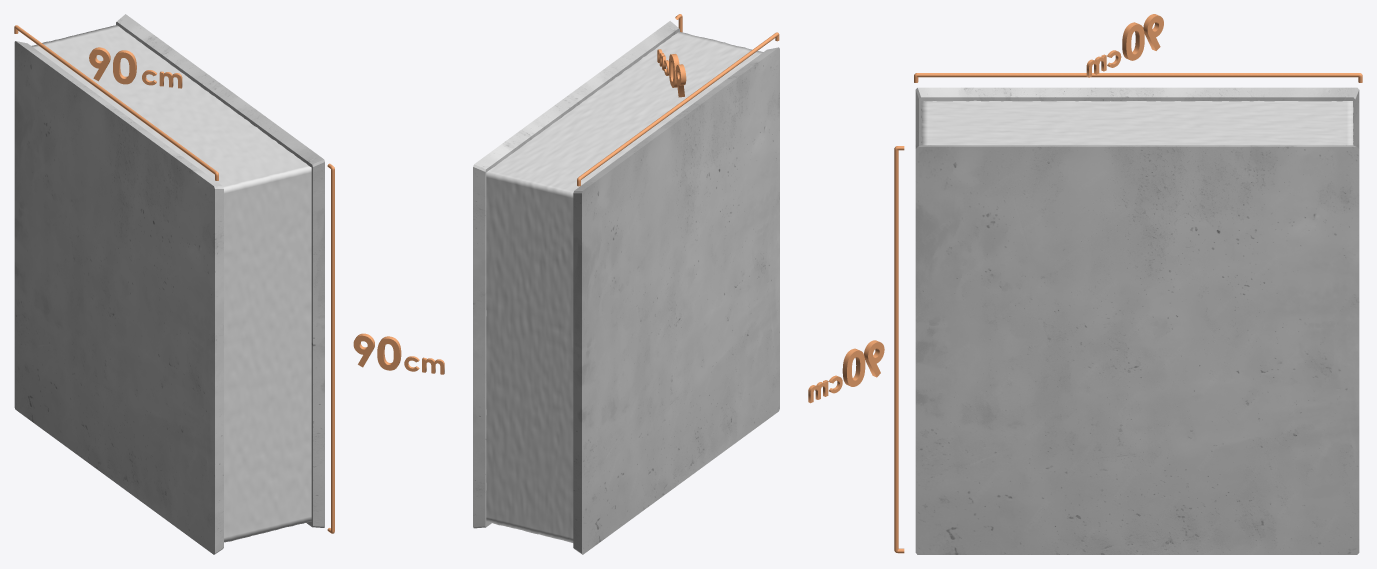
File: metrics-3d.glb
3 renders of one model, left to right at view 1: azimuth 30°, elevation 25°; view 2: azimuth 150°, elevation 25°; view 3: azimuth 270°, elevation 25°, orthographic. The views are drawn at different scales.
Visible parts, largest first — view 1: Cube, Cube.001, NurbsPath.001, NurbsPath.002, Text.002, Text.001; view 2: Cube, Cube.001, NurbsPath.002, Text.001; view 3: Cube, Cube.001, NurbsPath.002, NurbsPath.001, Text.002, Text.001.
Part boxes in pixels (x1,y1,x2,y2): Cube: (14, 14, 324, 554); Cube.001: (32, 25, 311, 542); NurbsPath.001: (327, 163, 334, 533); NurbsPath.002: (14, 25, 218, 180); Text.002: (353, 333, 401, 370); Text.001: (89, 47, 136, 84); Cube: (473, 21, 779, 554); Cube.001: (486, 31, 763, 542); NurbsPath.002: (577, 32, 779, 186); Text.001: (669, 54, 686, 97); Cube: (915, 87, 1359, 554); Cube.001: (921, 100, 1353, 145); NurbsPath.002: (914, 73, 1362, 82); NurbsPath.001: (894, 146, 904, 553); Text.002: (842, 340, 884, 386); Text.001: (1122, 14, 1163, 60).
Bounding box in the file's own units: 1.66 × 3.46 × 3.65.
3 materials, 1 textured.
